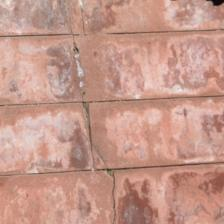Crack: (20, 7, 70, 118), (0, 0, 73, 69)
